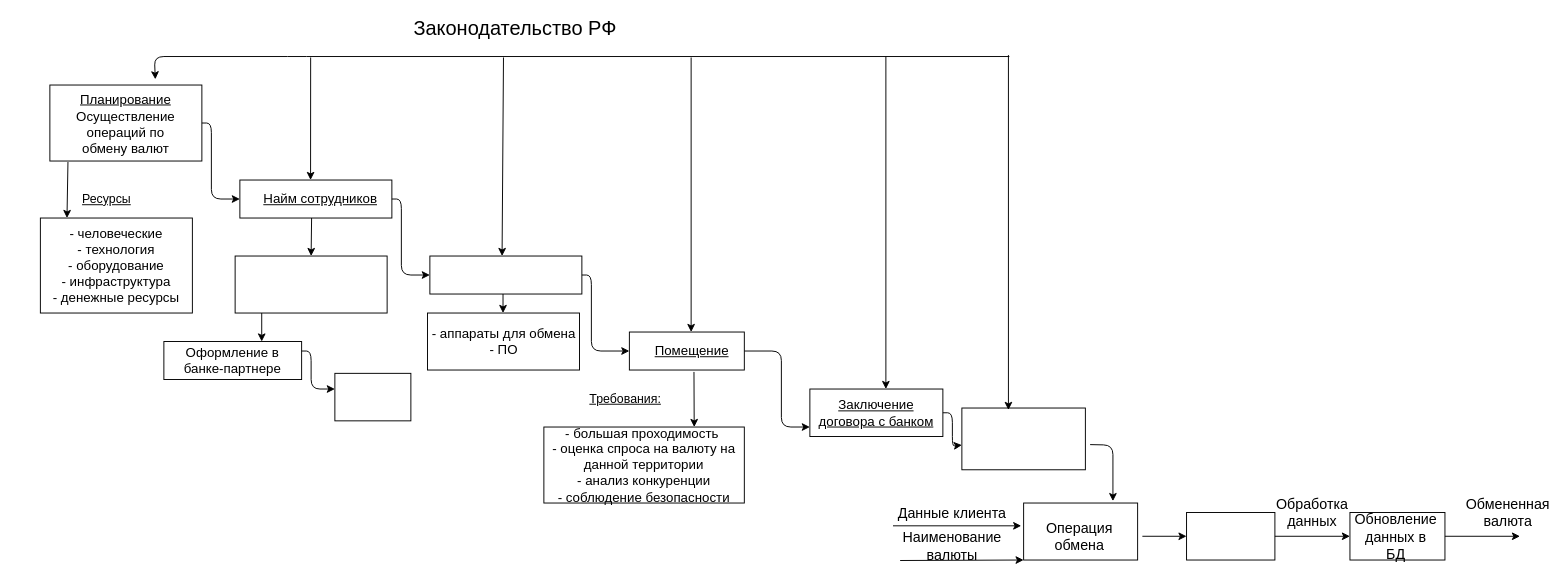
Some shapes in this 1566 by 585 pixel diagram are drawn without their labels. Each missing label, with the centre of its shape:
- управляющий пунктом - тех. персонал: [310,284]
Внесение данных в БД: [1230,536]
Оборудование: [505,274]
Оплата труда: [372,396]
Осуществление работы пункта обмена валют: [1023,438]
